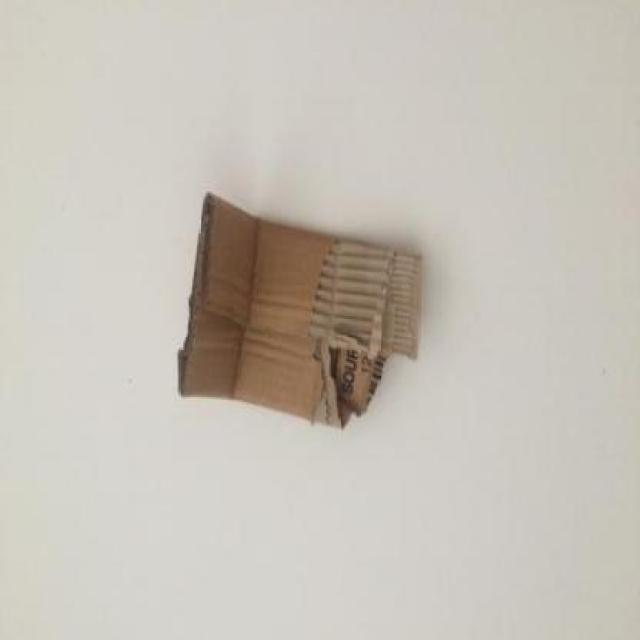box: (162, 188, 432, 476)
